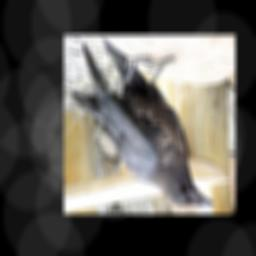Crow: (71, 39, 215, 209)
